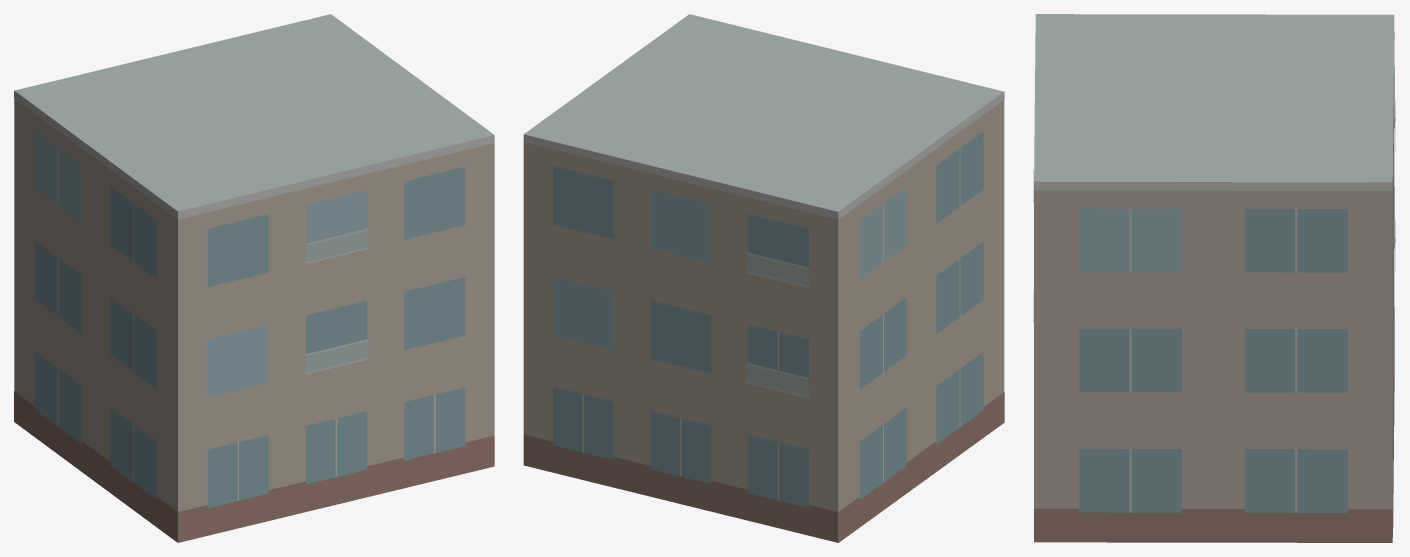
Rendered from survey-upis-33016919.glb.
3 views of the same model, side by side, from view 1: azimuth 30°, elevation 25°; view 2: azimuth 150°, elevation 25°; view 3: azimuth 270°, elevation 25° (orthographic). The views are drawn at different scales.
Parts seen in each view (by area): view 1: survey-upis-33016919.tmp; view 2: survey-upis-33016919.tmp; view 3: survey-upis-33016919.tmp.
Part boxes in pixels (x1,y1,x2,y2): survey-upis-33016919.tmp: [14, 14, 494, 542]; survey-upis-33016919.tmp: [523, 14, 1004, 542]; survey-upis-33016919.tmp: [1033, 14, 1395, 542].
Size of the model in its own units: 10.13 by 10.1 by 9.21.
